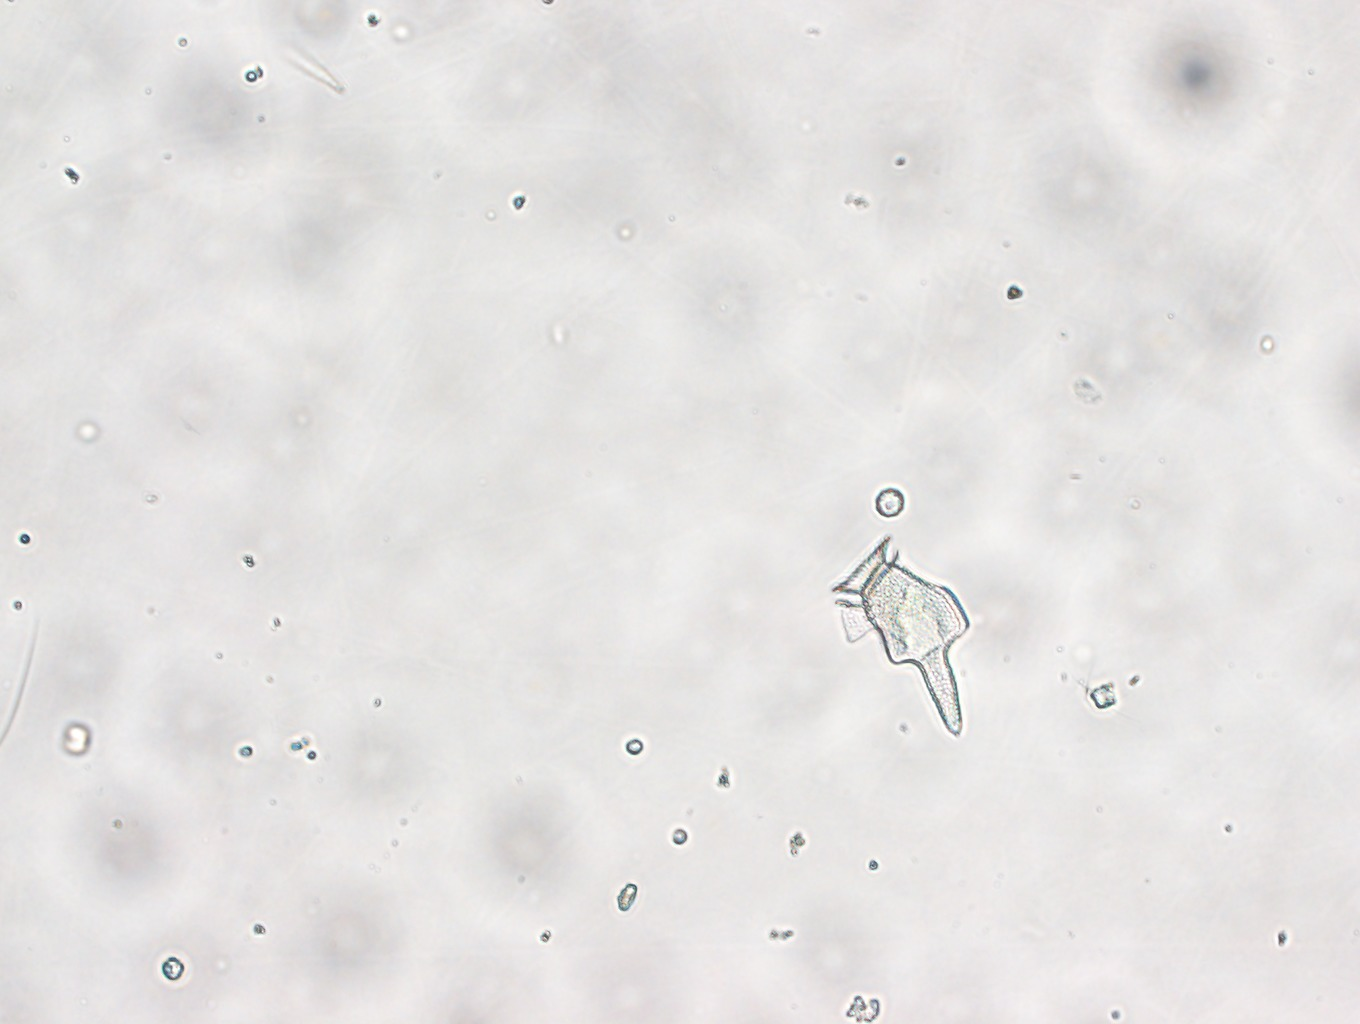dinophysis caudata: (831, 536, 968, 737)
